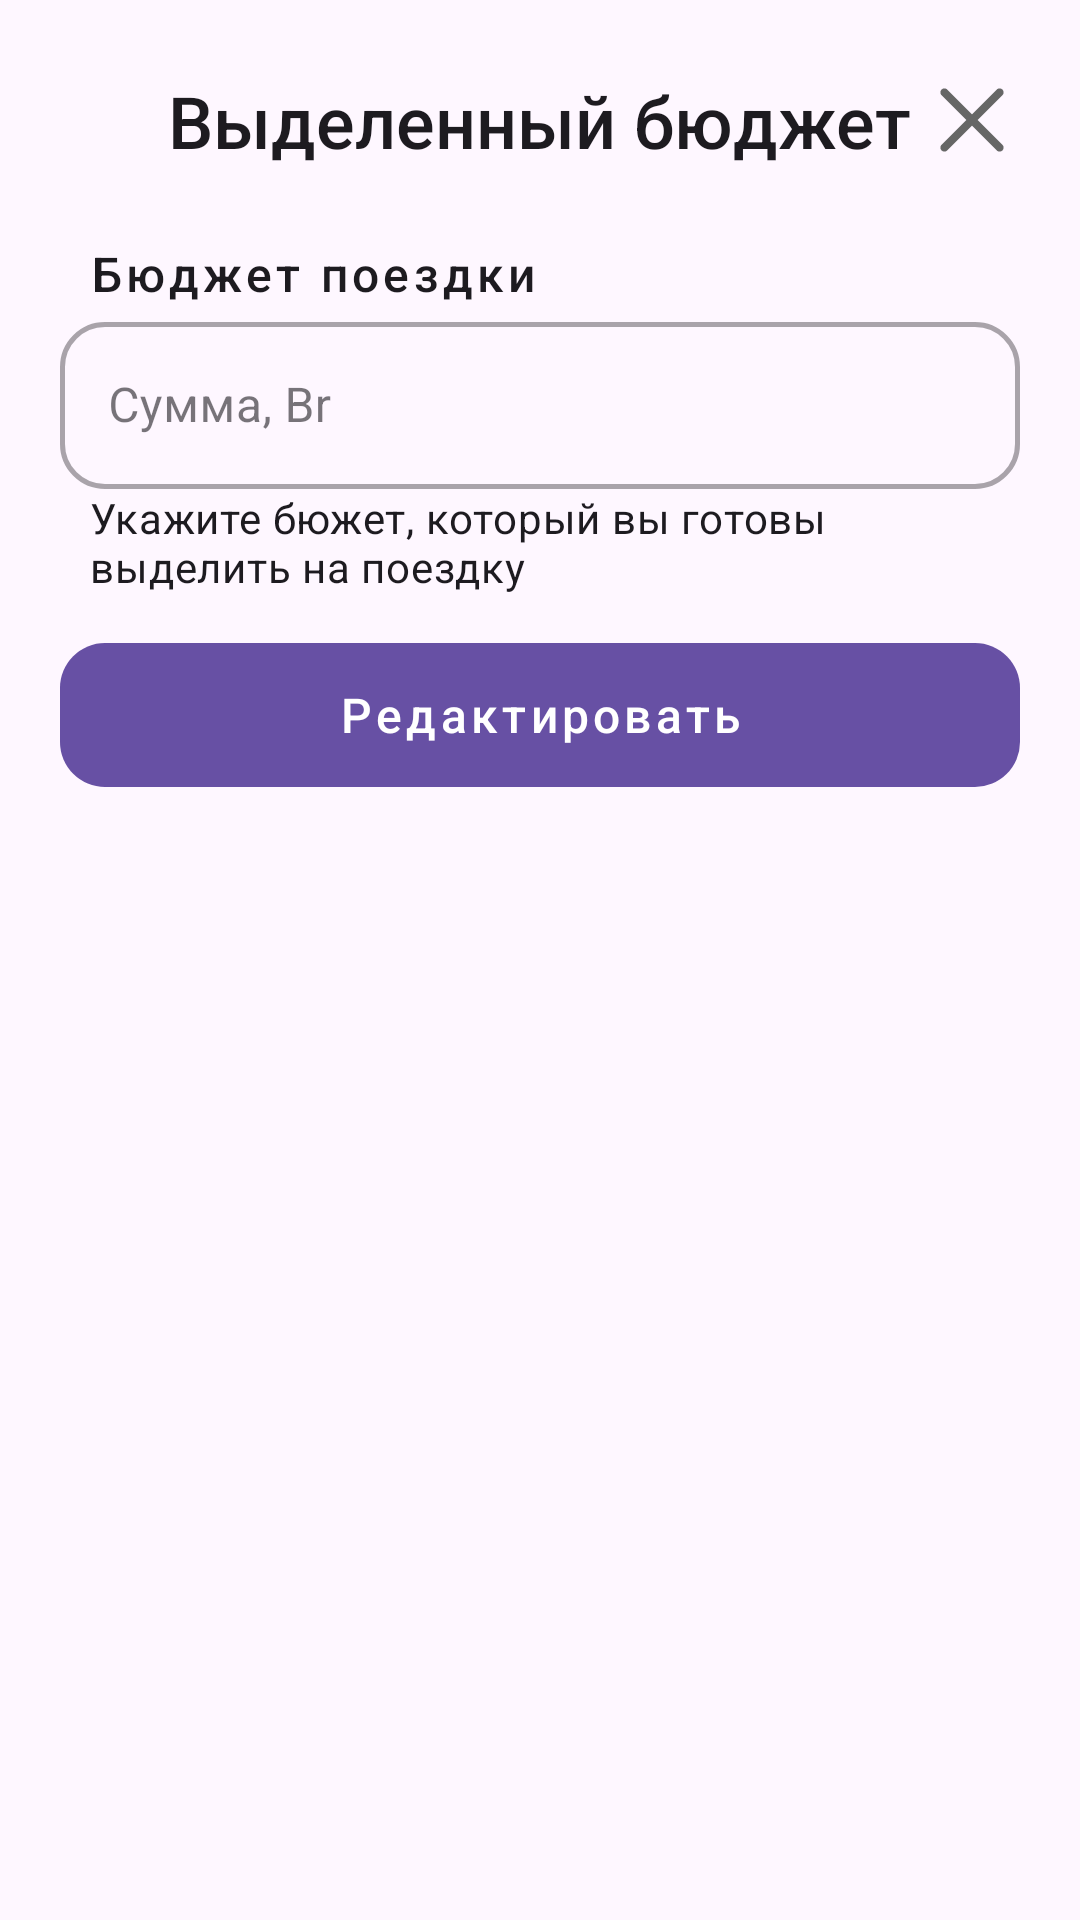

Icons on this 1080 × 1920 Android screen, each with its box as BBox(x1, y1, x2, y2):
cross: BBox(940, 88, 1004, 152)
